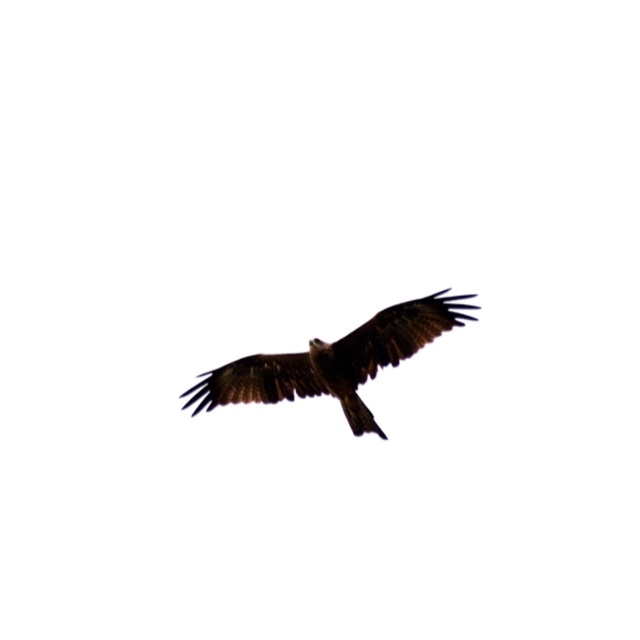Eagle: (178, 287, 482, 440)
